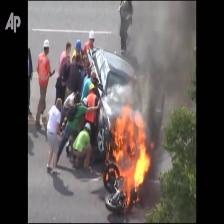fire: (119, 116, 146, 198)
smoke: (143, 0, 191, 107)
